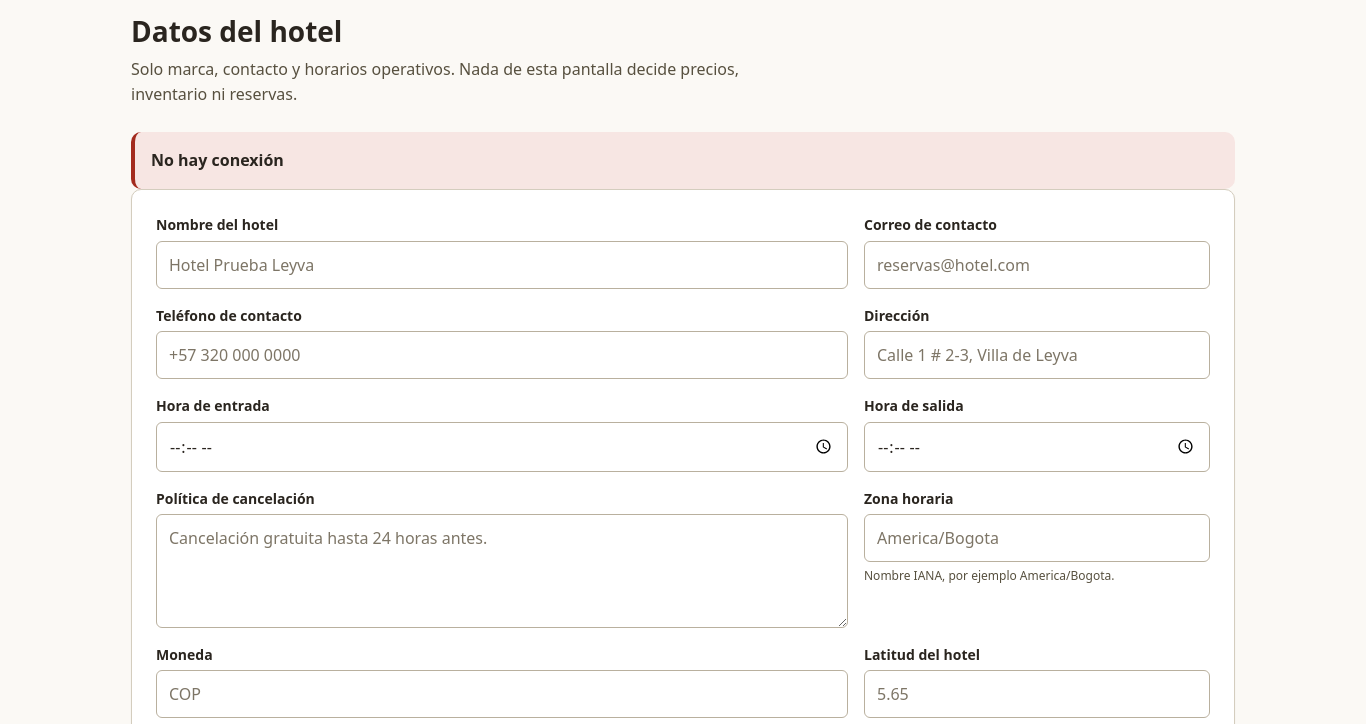
configuración del hotel durante la carga › permite editar y guardar si la lectura inicial falla
Check: the message reads "No hay conexión", box left=151, top=149, right=284, bottom=171
Step 1. Type "Hotel actualizado" into the field labelled "Nombre del hotel" → (502, 265), box left=156, top=241, right=848, bottom=289
(page scrolled)
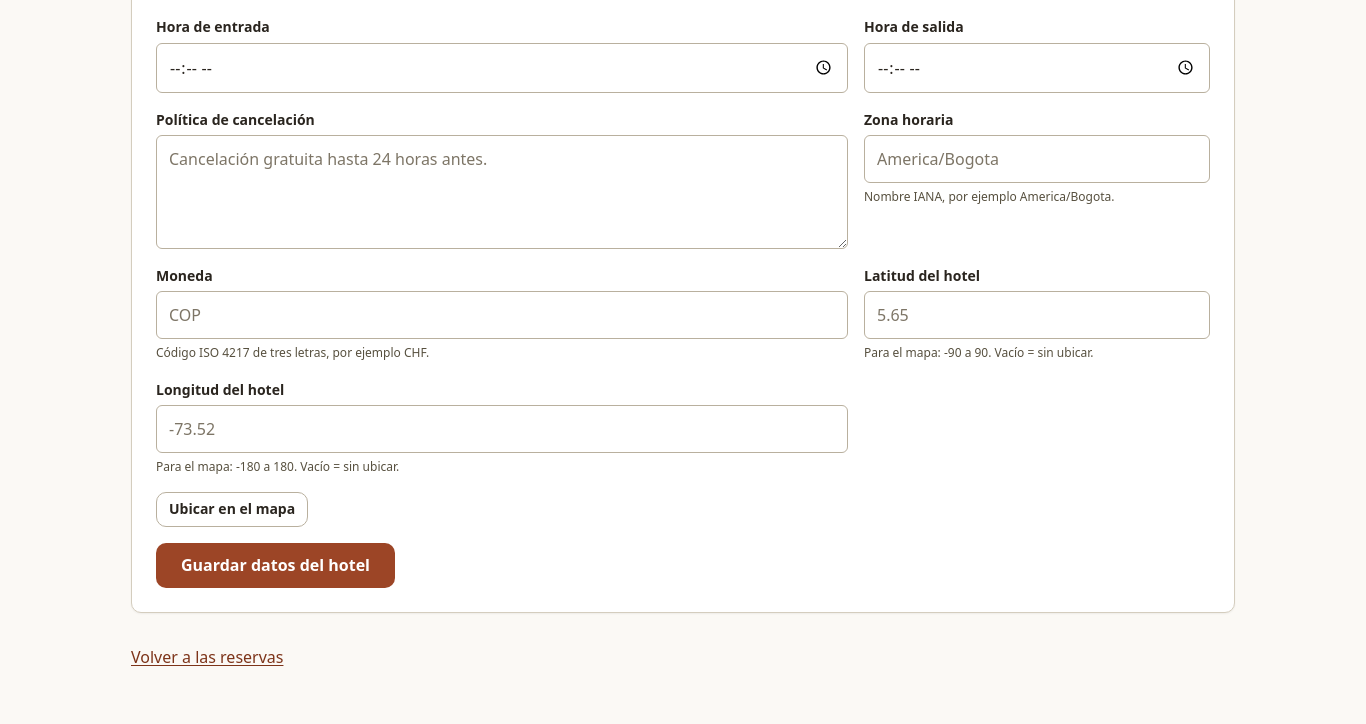
Step 2. Click the button "Guardar datos del hotel" → (276, 566), box left=156, top=543, right=395, bottom=588
(page scrolled)
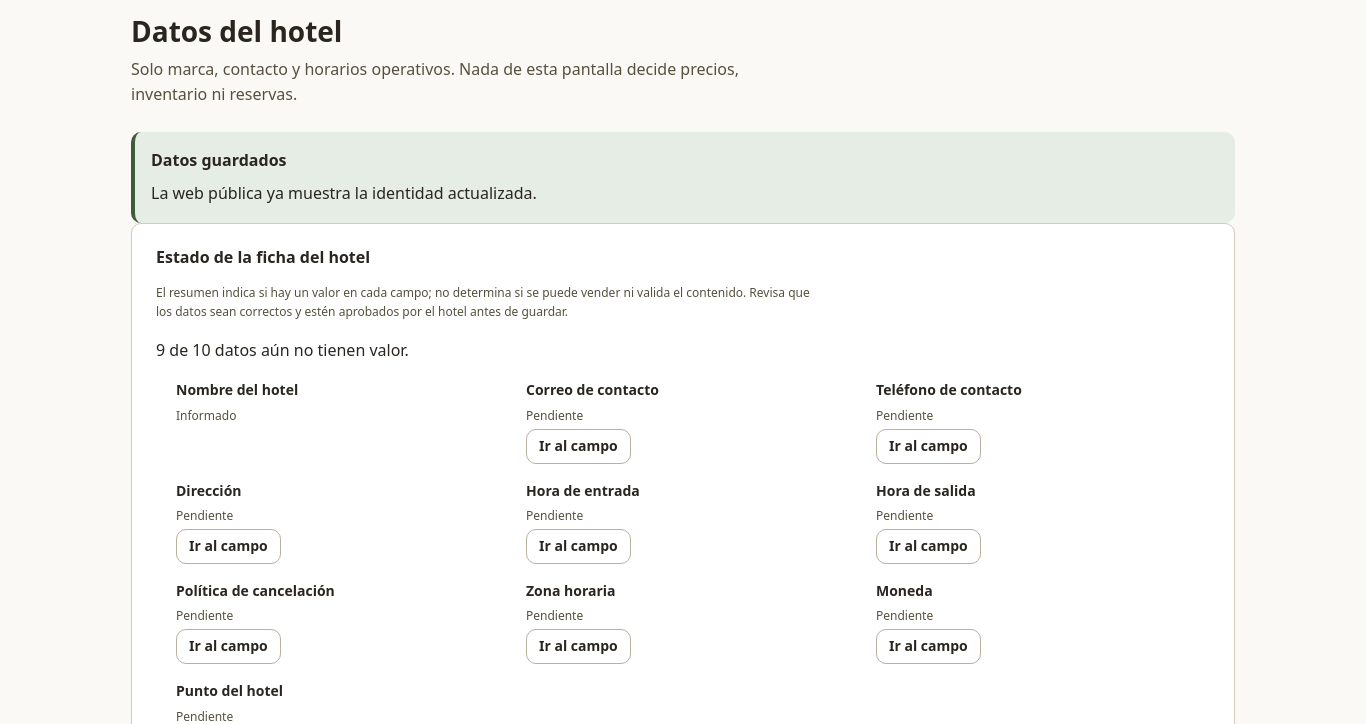
Check: the text "Datos guardados" is shown, box left=151, top=149, right=286, bottom=171
